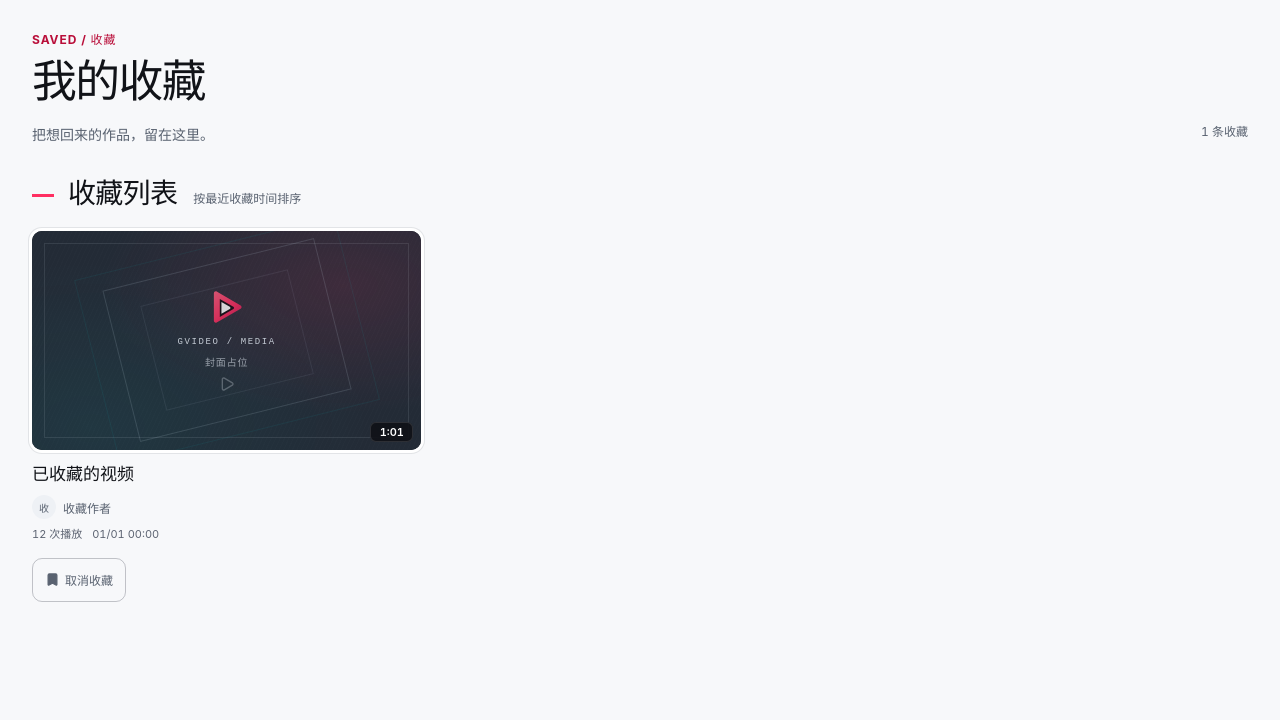
Test case: FavoritesPage › 服务端返回 active=true 时不假装取消成功
Click the button "取消收藏". click: [79, 580]
box: 32,558 -> 126,602
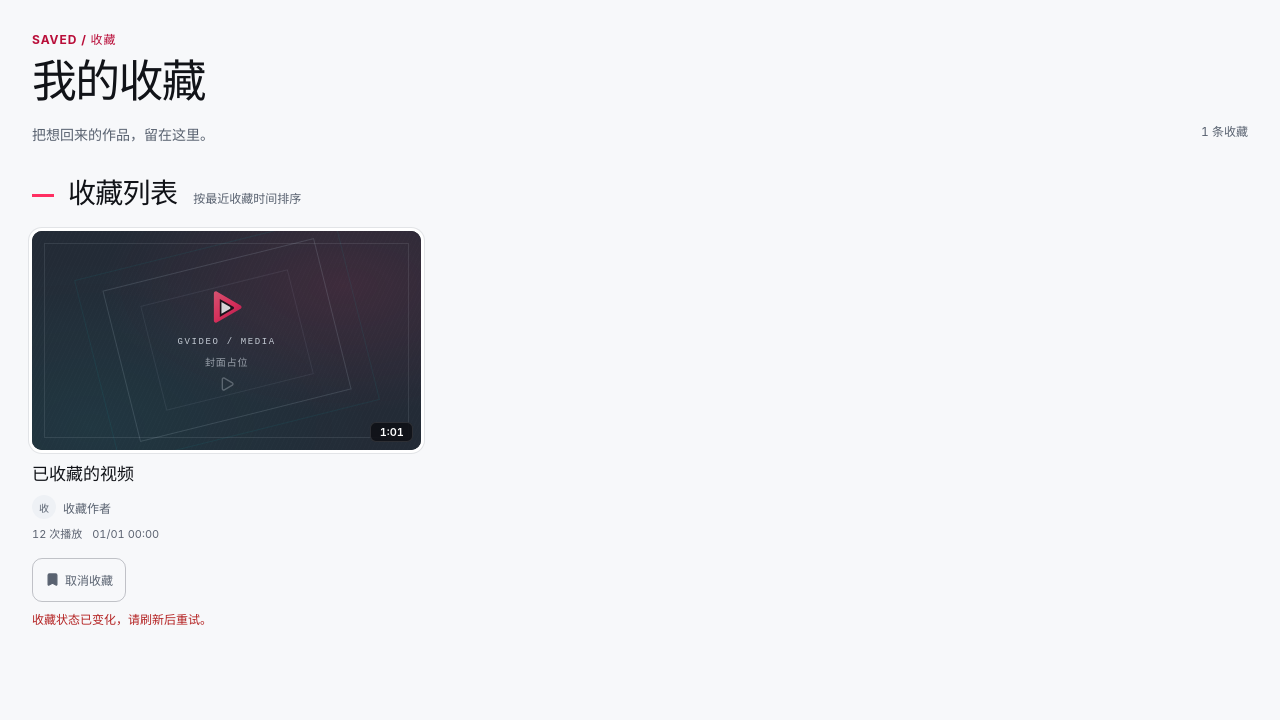
Expected: the text "1 条收藏" is shown, 1201,124 -> 1248,138
Now the text "收藏状态已变化，请刷新后重试。" is shown, box 32,612 -> 212,627
